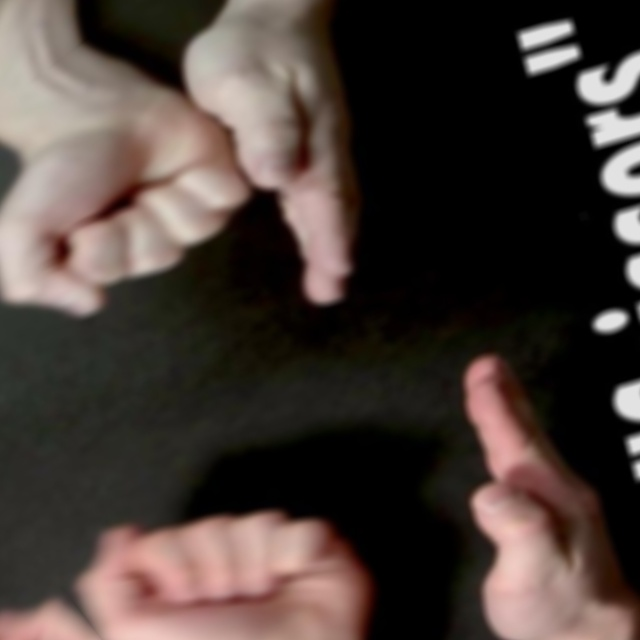Rock: (0, 0, 142, 175), (0, 561, 202, 640)
